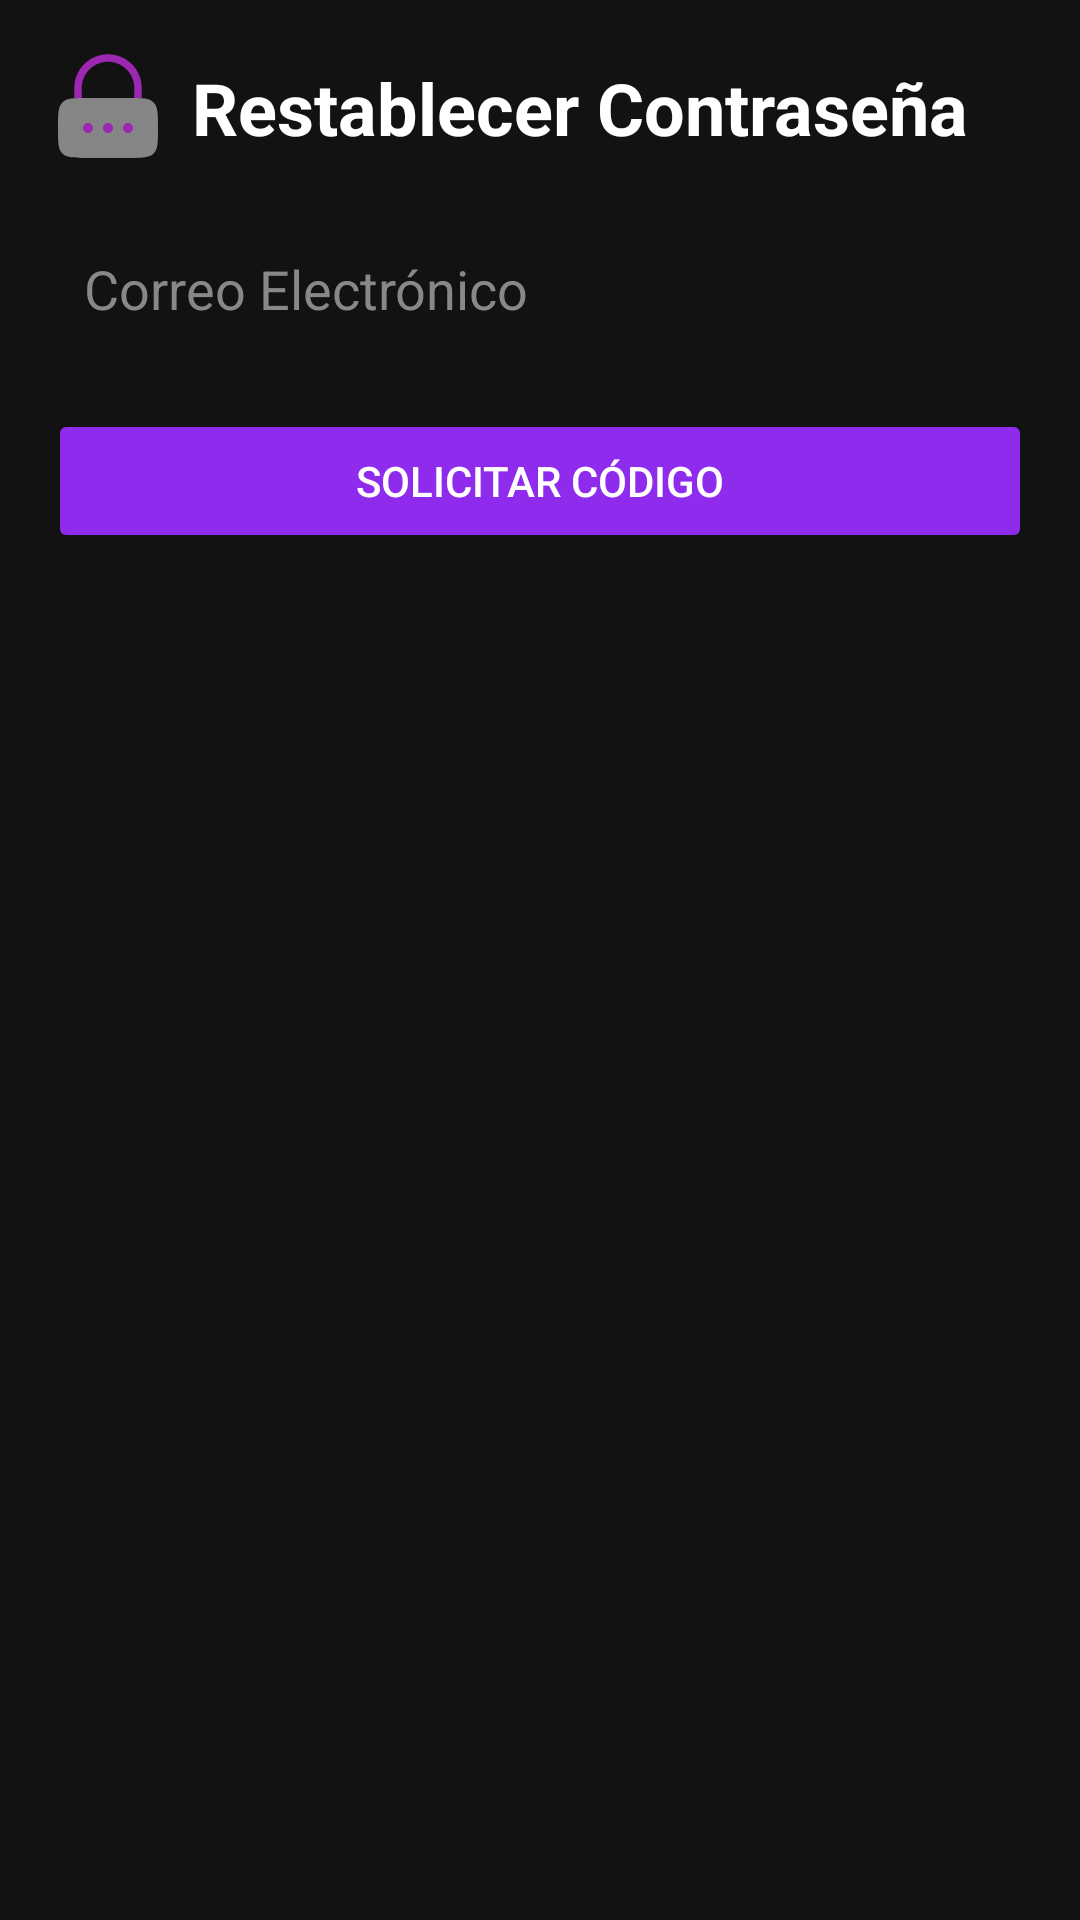

Icon click points for this 1080 × 1920 phone screenshot, format point (x, y):
Icono de Restablecimiento de Contraseña: point (108, 106)
